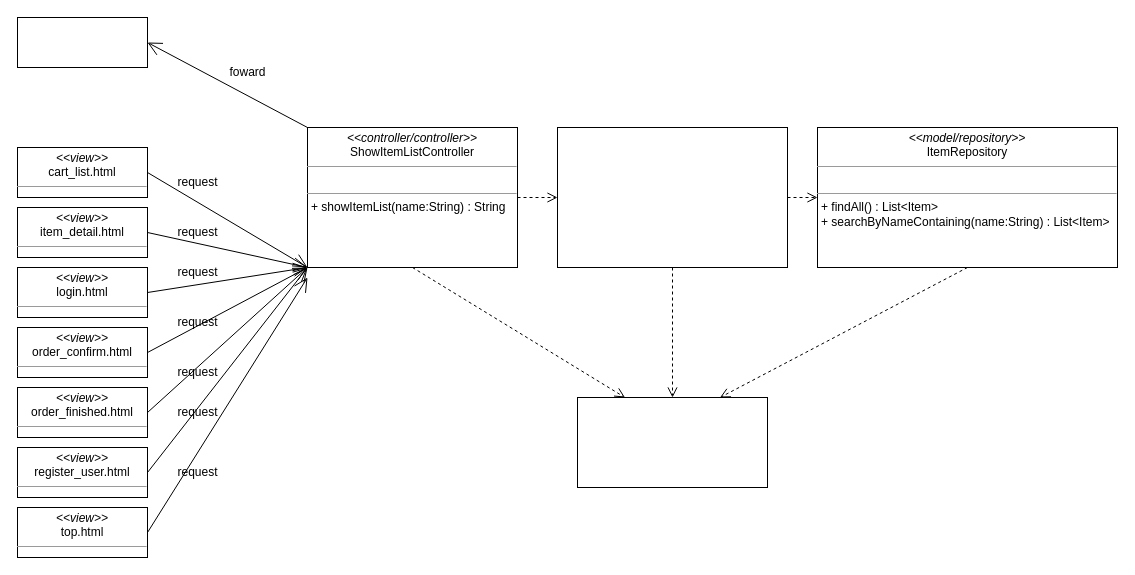
The diagram is 1135 pixels wide and 575 high, and some of its shapes have lost their labels. Here are the shapes that lost their labels. From the top down, the centre of each, then its label:
At pixel 82 42: "<<view>> item_list.html".
At pixel 672 197: "<<model/service>> ShowItemListService + showItemList(name:String) : List<Item>".
At pixel 672 442: "<<model/domain>> Item".
